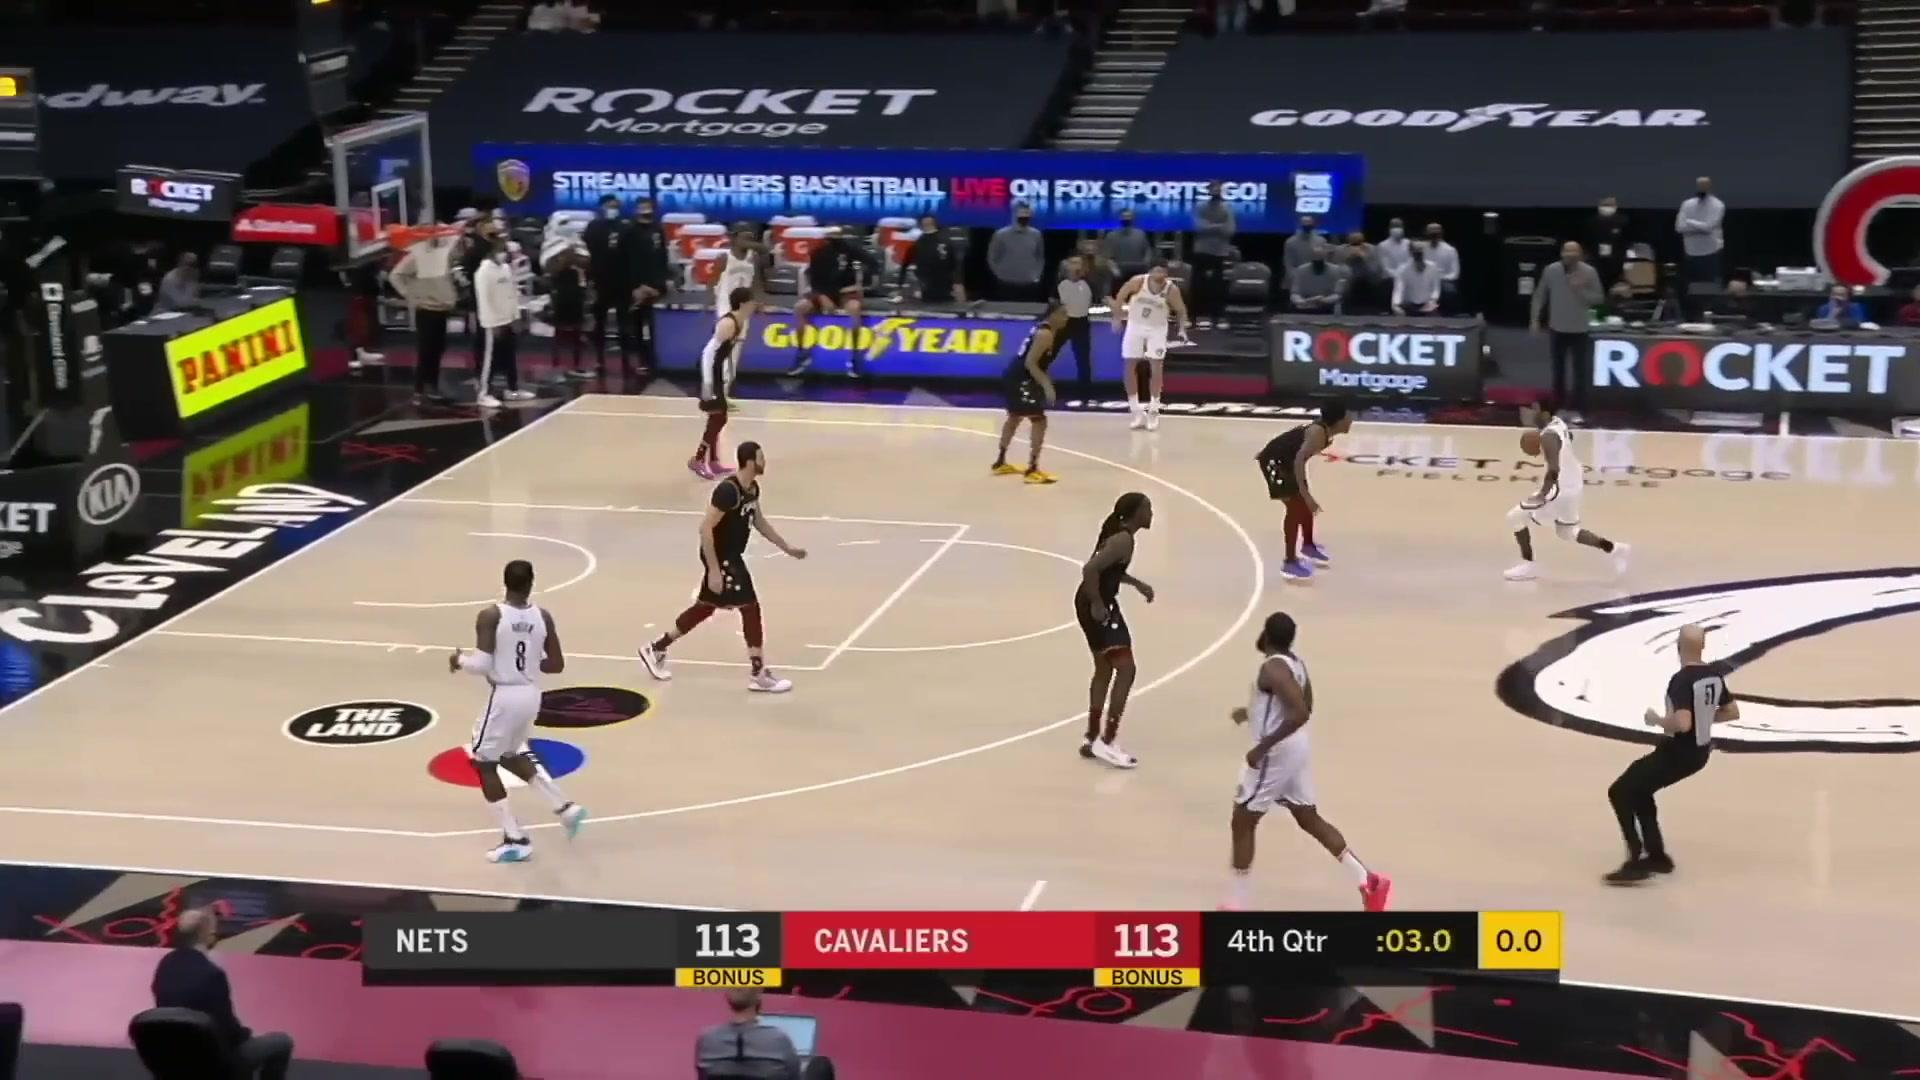no_foul: (678, 214, 789, 475)
